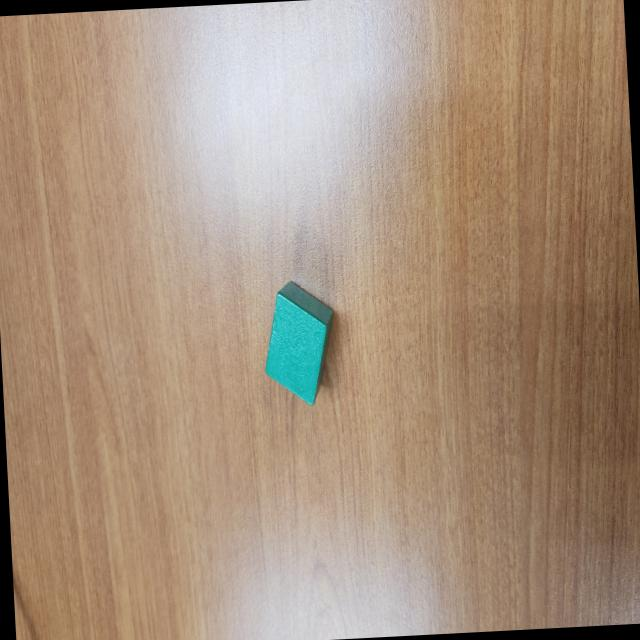green: (259, 278, 339, 408)
